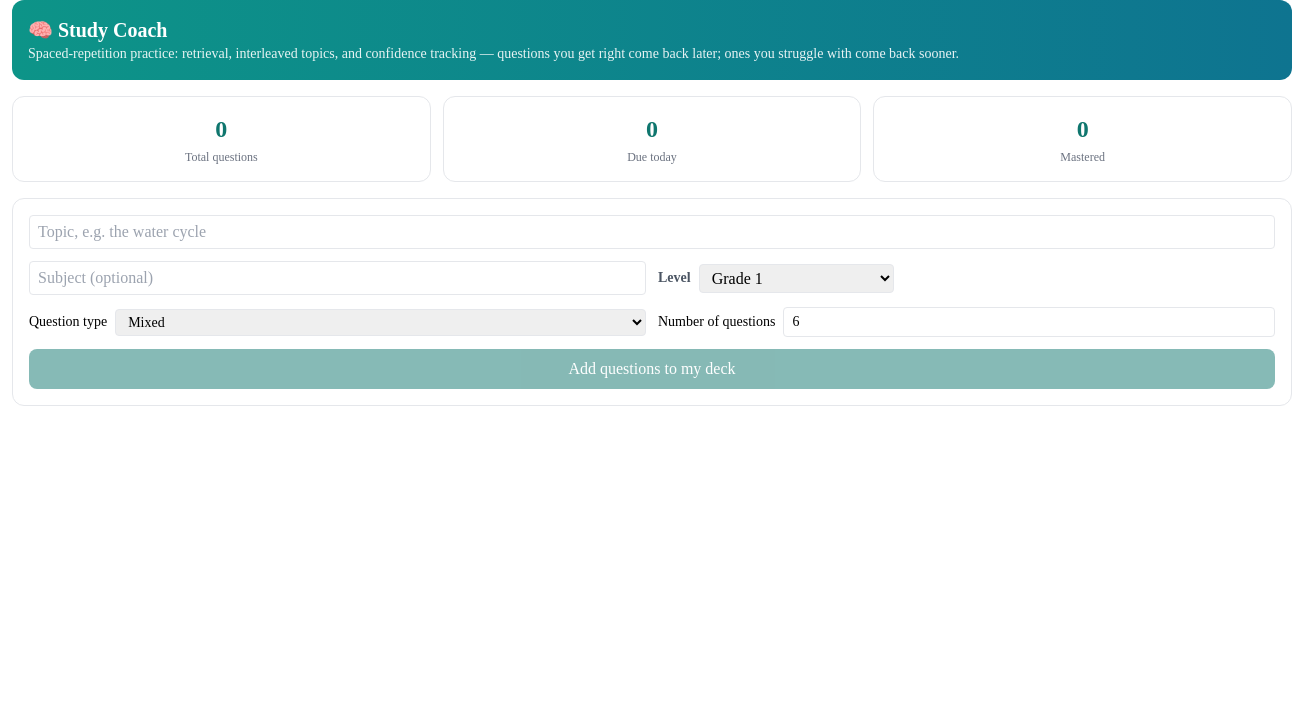
Test: StudyCoach › generates study questions for a topic
The width and height of the screenshot is (1292, 720).
Expected: the text "Total questions" is shown, [185, 150, 258, 164]
Type "basic math" into the field with placeholder "Topic, e.g. the water cycle". click: [652, 232]
box: [29, 215, 1275, 249]
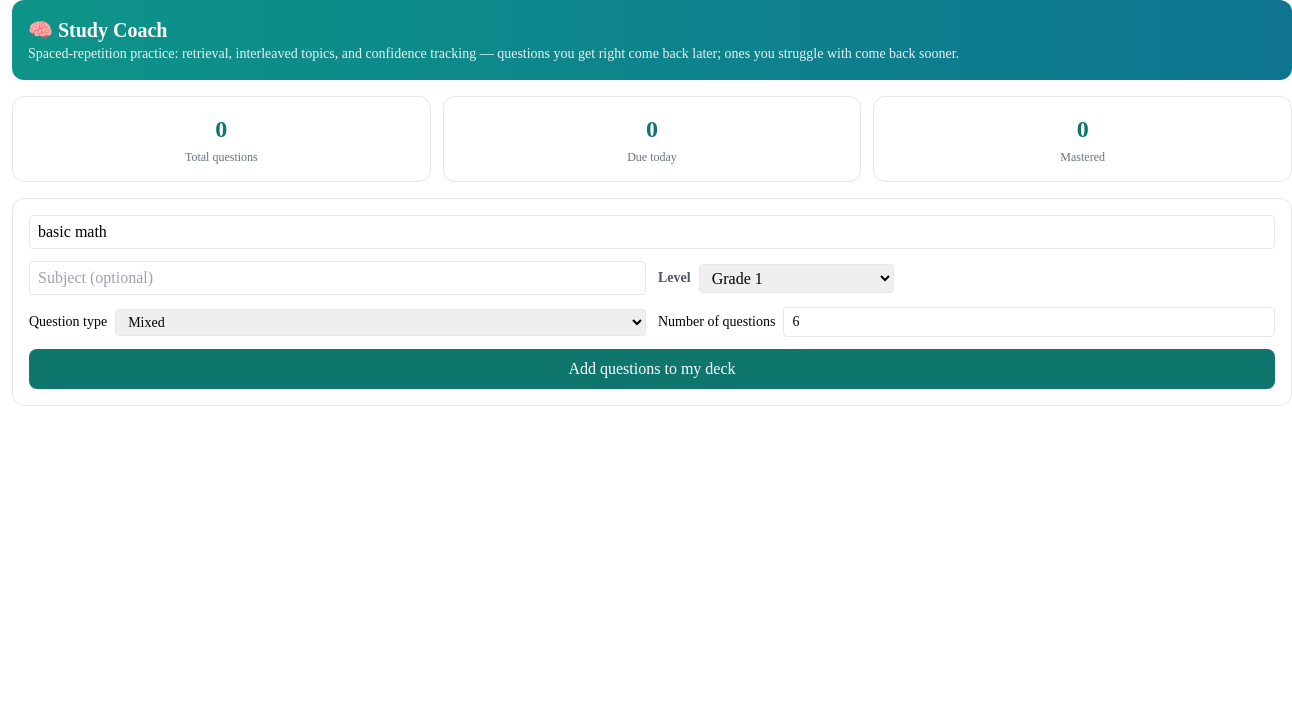
Click the button "Add questions to my deck". click: [652, 369]
box: [29, 349, 1275, 389]
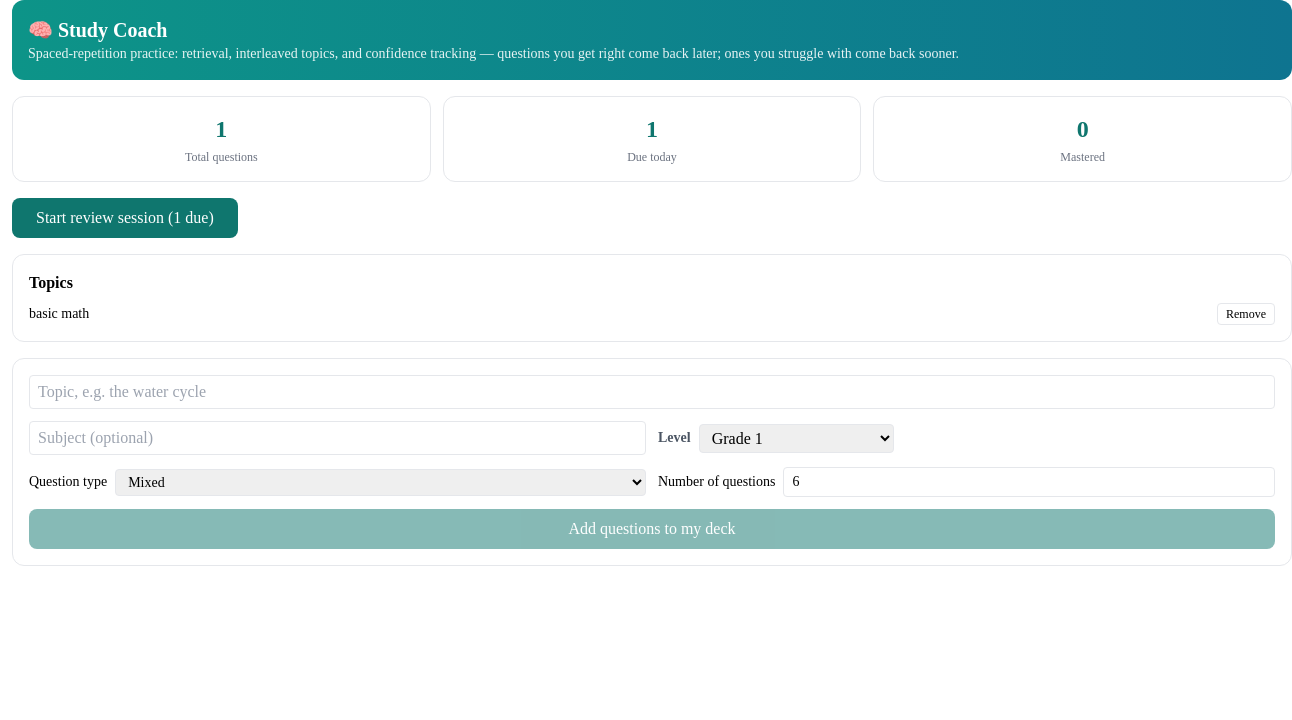
Expected: the button "Start review session (1 due)" is shown, [12, 198, 238, 238]
Expected: the text "basic math" is shown, [29, 304, 89, 324]
